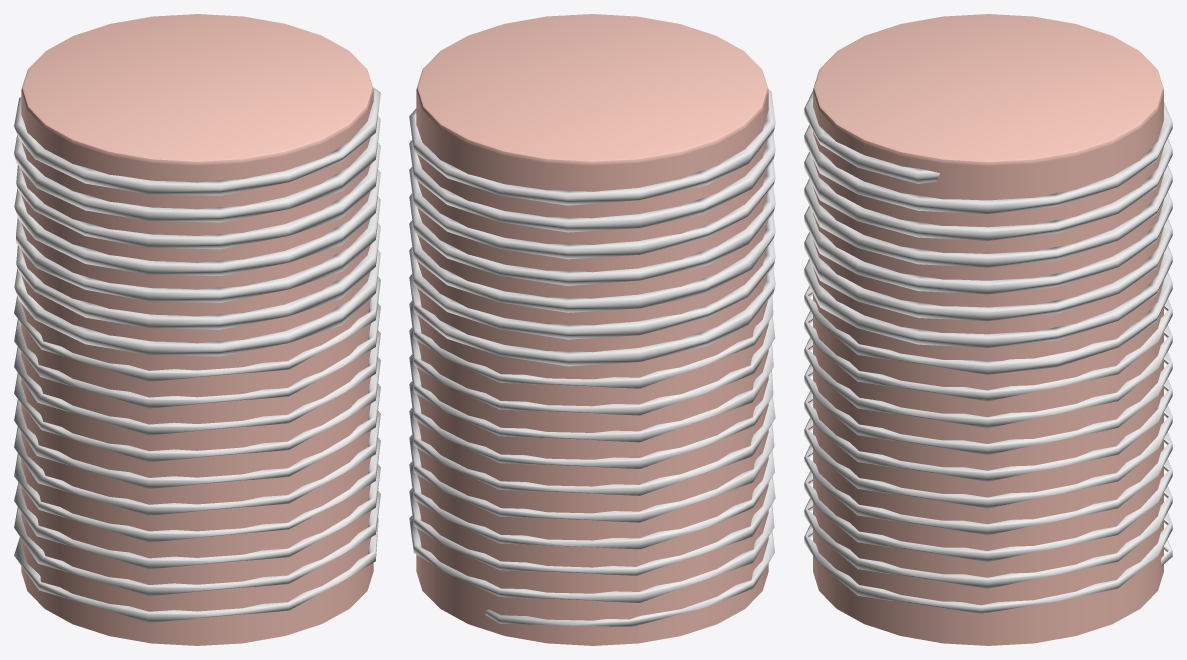
Rendered from Thread.fbx.
The picture shows the model from 3 angles, left to right: view 1: azimuth 30°, elevation 25°; view 2: azimuth 150°, elevation 25°; view 3: azimuth 270°, elevation 25°; orthographic projection.
Parts seen in each view (by area): view 1: Base.Low, Rope.Low; view 2: Base.Low, Rope.Low; view 3: Base.Low, Rope.Low.
Boxes of the visible parts, <box> form: Base.Low: <box>21,14,373,645</box>; Rope.Low: <box>14,87,380,622</box>; Base.Low: <box>416,14,768,645</box>; Rope.Low: <box>409,88,775,626</box>; Base.Low: <box>813,14,1163,645</box>; Rope.Low: <box>804,91,1172,613</box>.
Size of the model in its own units: 0.2959 by 0.4276 by 0.2948.
Materials: 2 (2 with a texture image).
